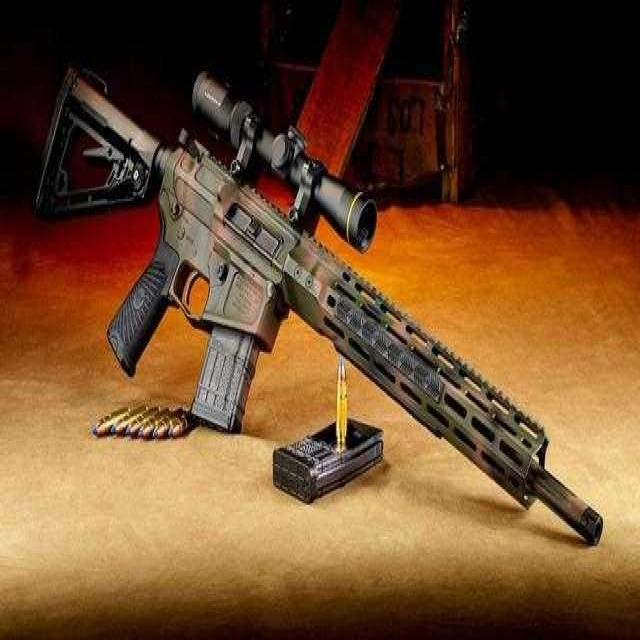heavyweapon: (21, 33, 562, 541)
